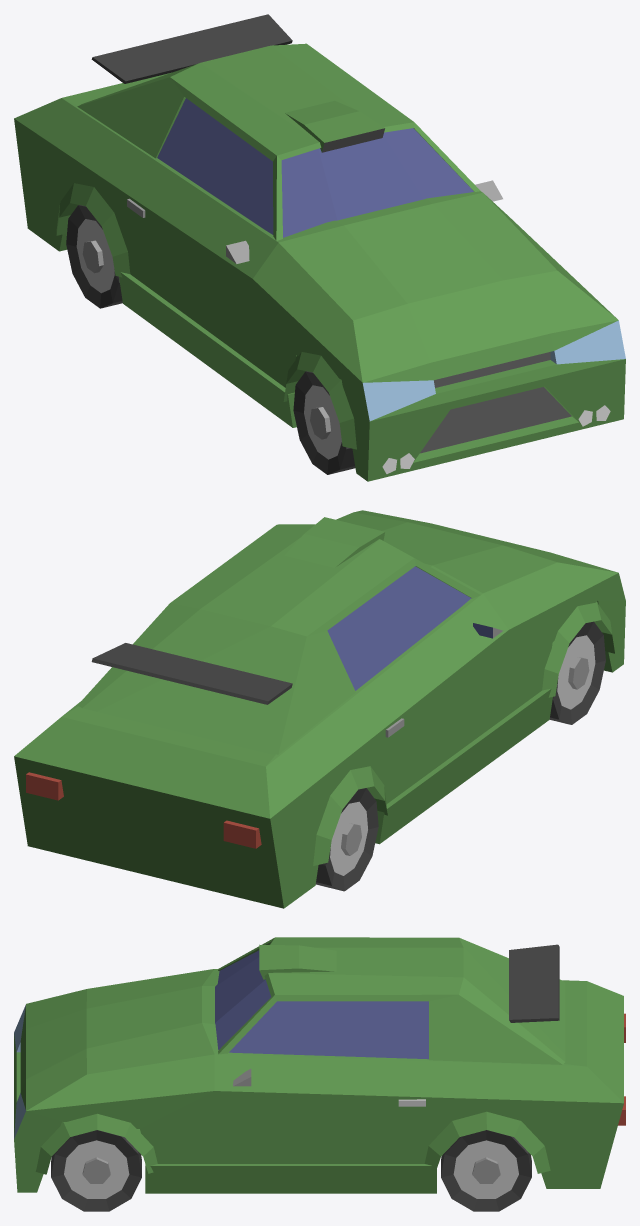
Rendered from transport_sport_010.glb.
The picture shows the model from 3 angles, top to bottom: view 1: azimuth 30°, elevation 25°; view 2: azimuth 150°, elevation 25°; view 3: azimuth 270°, elevation 25°; orthographic projection. The views are drawn at different scales.
Parts seen in each view (by area): view 1: transport_sport_010; view 2: transport_sport_010; view 3: transport_sport_010.
Boxes of the visible parts, box(x1,y1,x2,y2) form: transport_sport_010: box(14, 14, 625, 481); transport_sport_010: box(14, 510, 625, 908); transport_sport_010: box(14, 937, 625, 1211).
Bounding box in the file's own units: 1.57 × 1.29 × 3.57.
Materials: 1 (1 with a texture image).
